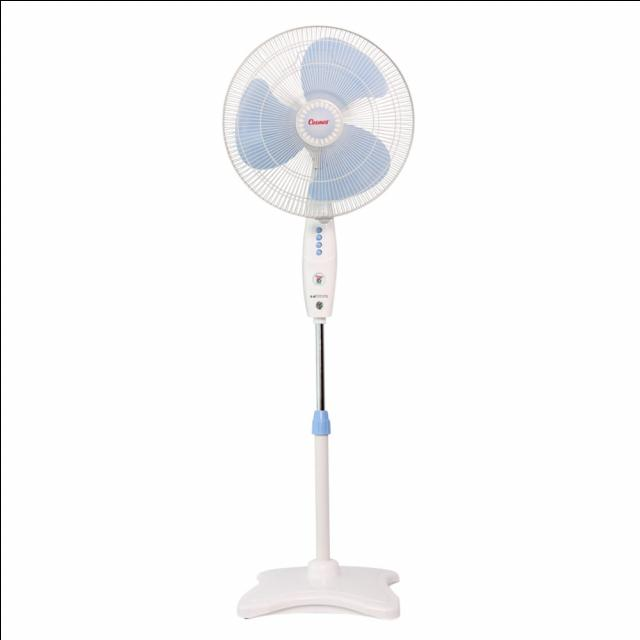fan: (222, 16, 412, 622)
